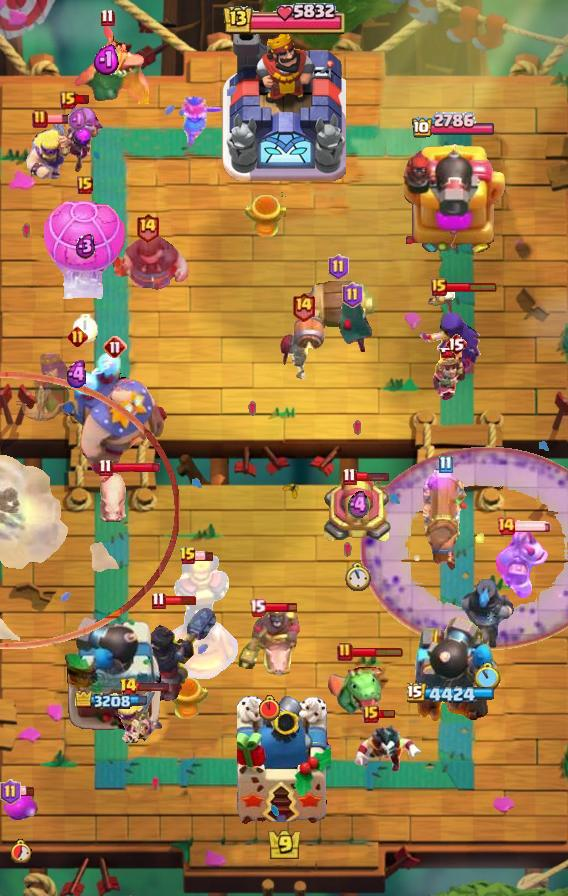arrows: (25, 124, 75, 181), (116, 691, 164, 744)
axe: (417, 285, 481, 373)
barbarian-hut: (16, 351, 138, 421)
battle-healer: (422, 469, 468, 573)
bomber-evolution: (430, 348, 482, 404)
cannon-cart: (41, 194, 129, 302)
clock: (221, 0, 347, 40)
electro-dragon: (162, 554, 240, 682)
electro-spirit: (93, 44, 121, 76), (65, 360, 91, 389), (348, 490, 369, 521), (67, 107, 89, 134), (75, 233, 96, 259)
electro-wizard: (65, 18, 149, 104), (325, 657, 391, 719)
elixir: (345, 562, 371, 592), (475, 663, 501, 691), (73, 313, 98, 342), (259, 695, 280, 721), (11, 839, 32, 863)
elixir-golem-small: (495, 528, 549, 600)
emote: (111, 461, 162, 474), (351, 646, 405, 658), (446, 281, 499, 293), (514, 520, 552, 532), (263, 601, 298, 614), (45, 113, 81, 125), (355, 470, 390, 482), (135, 680, 170, 692), (163, 595, 197, 606), (376, 708, 396, 720), (194, 551, 214, 562), (17, 787, 36, 798), (73, 94, 91, 105)
freeze: (236, 606, 302, 678)
giant: (96, 464, 130, 526)
hog-rider: (177, 95, 225, 149)
inferno-dragon: (124, 605, 220, 703), (460, 574, 516, 650)
king-tower: (222, 31, 346, 181), (237, 696, 331, 826)
knight: (278, 314, 328, 382)
little-prince: (62, 351, 168, 477)
lumberjack: (348, 719, 422, 777)
miner: (3, 792, 39, 822)
rascal-girl: (51, 105, 105, 175)
rocket: (360, 446, 568, 650)
royal-ghost: (0, 371, 180, 648)
royal-hog: (104, 232, 190, 294)
royal-recruit: (322, 473, 394, 547)
selected: (412, 112, 497, 140), (407, 683, 499, 706), (75, 691, 153, 713)
tesla: (330, 296, 374, 356)
text: (135, 212, 160, 243), (291, 291, 316, 322), (103, 335, 127, 359), (327, 254, 348, 280), (341, 282, 362, 308), (445, 332, 467, 356), (0, 779, 20, 805), (67, 325, 89, 347), (496, 516, 516, 536), (118, 677, 138, 697), (179, 546, 197, 566), (249, 598, 266, 617), (32, 109, 48, 129), (337, 642, 353, 662), (60, 91, 76, 109), (77, 176, 93, 194), (431, 278, 447, 296), (363, 705, 379, 723), (99, 458, 114, 477), (438, 455, 453, 473), (101, 8, 115, 27), (343, 467, 357, 485), (151, 591, 165, 609)
the-log: (300, 281, 376, 331)
tower-bar: (399, 138, 507, 256), (63, 615, 165, 731), (403, 615, 503, 731)
